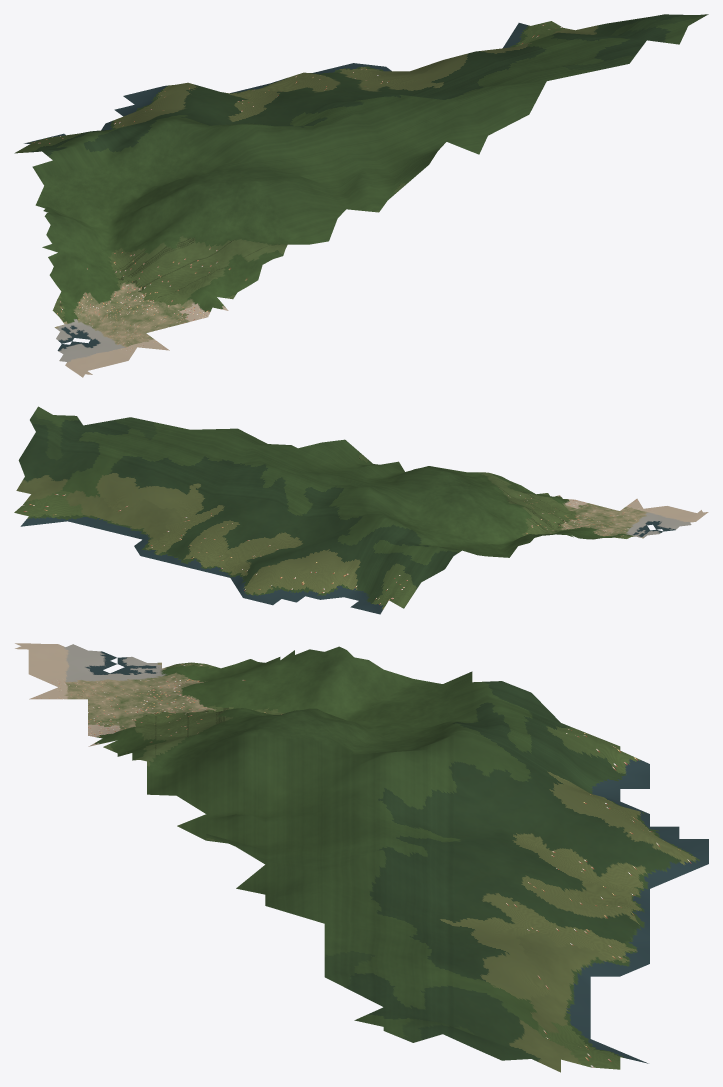
File: SM_Fondale_Colline_O_LOD2.fbx
The picture shows the model from 3 angles, top to bottom: view 1: azimuth 30°, elevation 25°; view 2: azimuth 150°, elevation 25°; view 3: azimuth 270°, elevation 25°; orthographic projection. The views are drawn at different scales.
Parts seen in each view (by area): view 1: SM_Fondale_Colline_O_LOD2; view 2: SM_Fondale_Colline_O_LOD2; view 3: SM_Fondale_Colline_O_LOD2.
Boxes of the visible parts, x1,y1,x2,y2 form: SM_Fondale_Colline_O_LOD2: [14, 14, 708, 377]; SM_Fondale_Colline_O_LOD2: [14, 406, 708, 614]; SM_Fondale_Colline_O_LOD2: [15, 643, 708, 1072].
Bounding box in the file's own units: 900000 × 564000 × 75061.
Materials: 1 (1 with a texture image).
